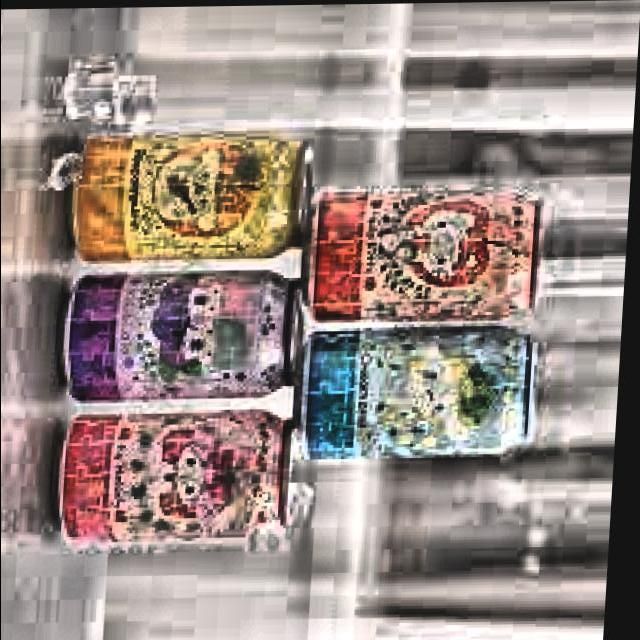litter: (298, 322, 556, 471), (61, 125, 326, 270), (50, 405, 308, 552), (50, 262, 309, 408), (304, 184, 555, 326)
